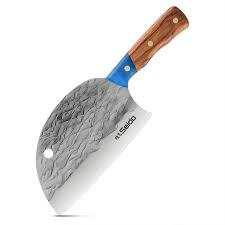Knife: (35, 5, 189, 215)
